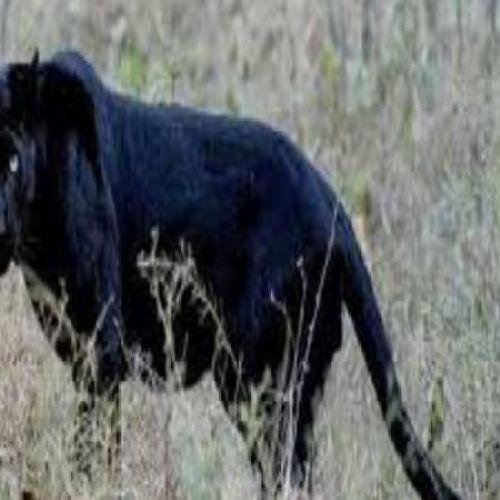panther-endangered: (0, 45, 460, 499)
